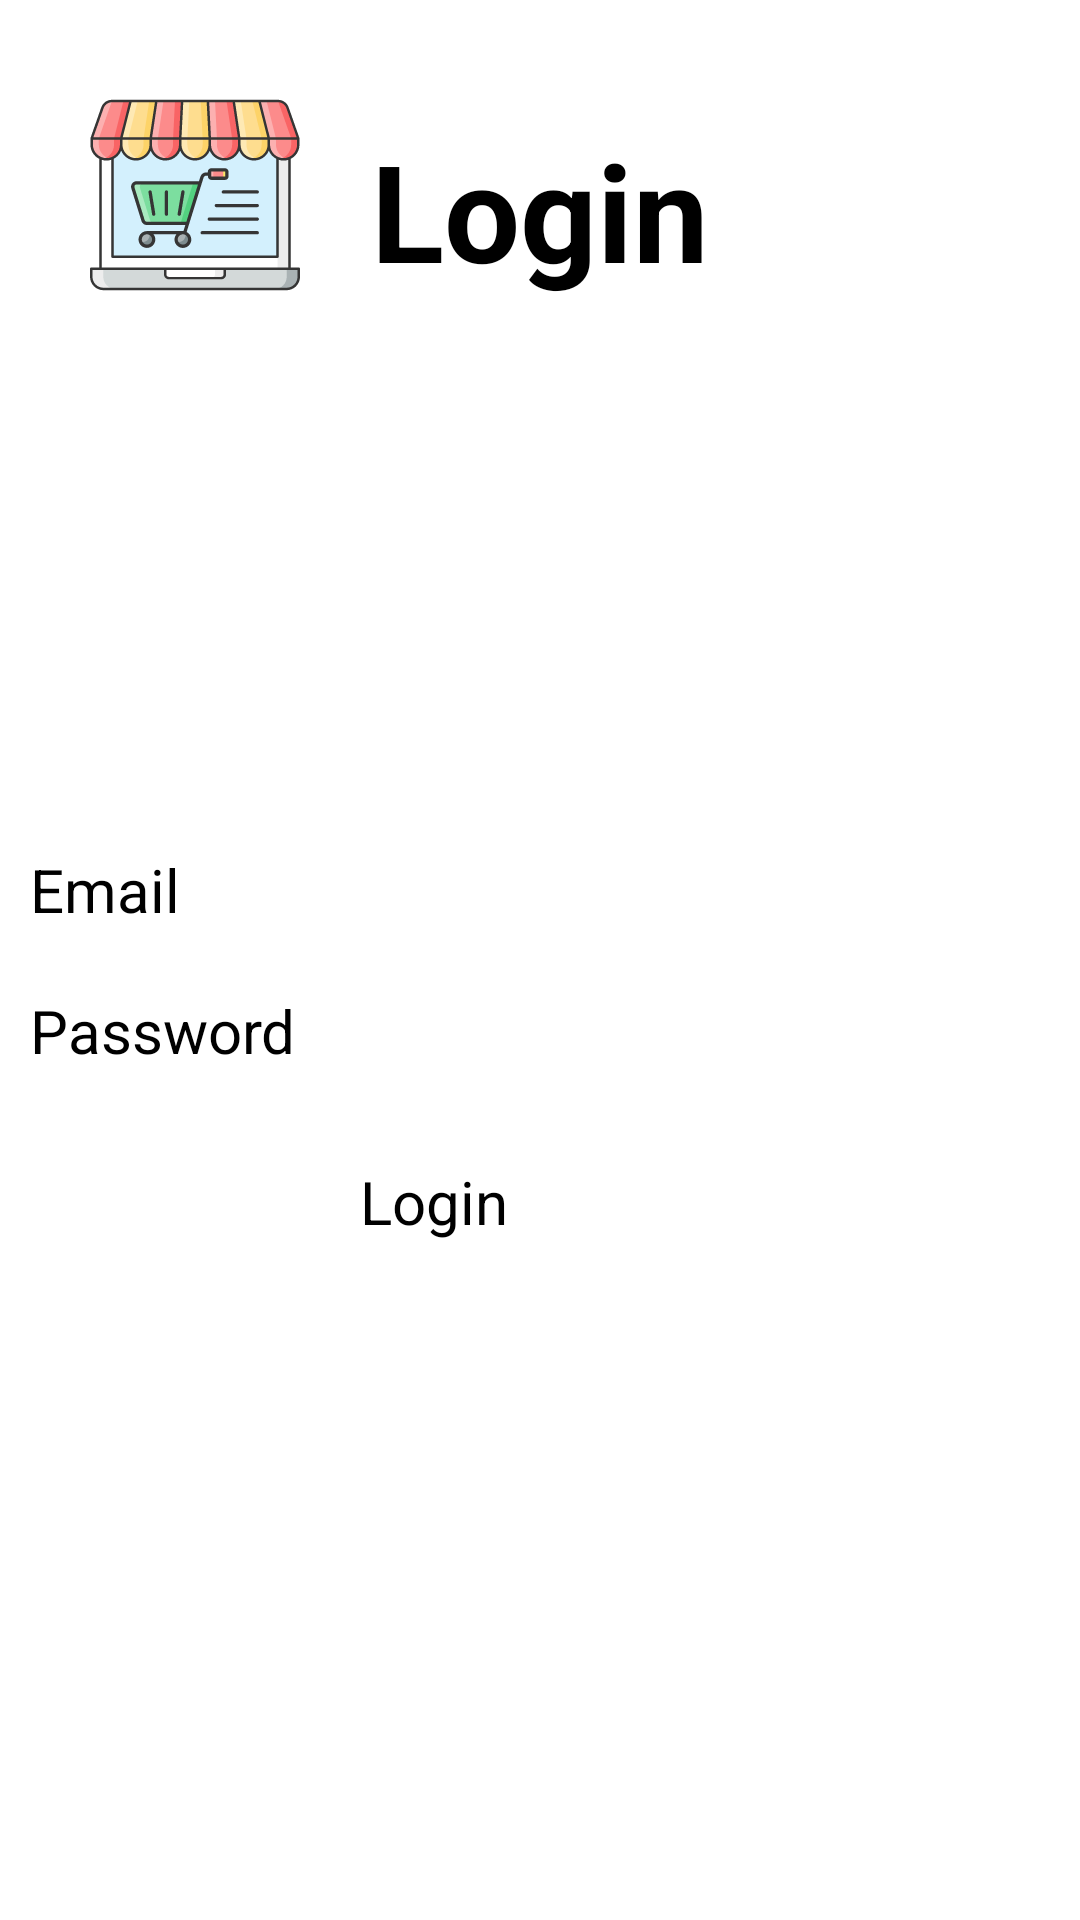

Screen size 1080x1920. Icon name, then its box in pixels as (x1, y1, x2, y2):
ecommerce online shopping: (90, 99, 300, 291)
